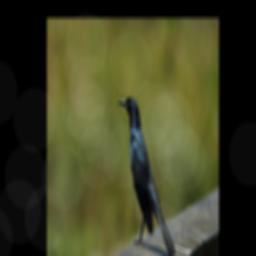Crow: (117, 95, 177, 256)
